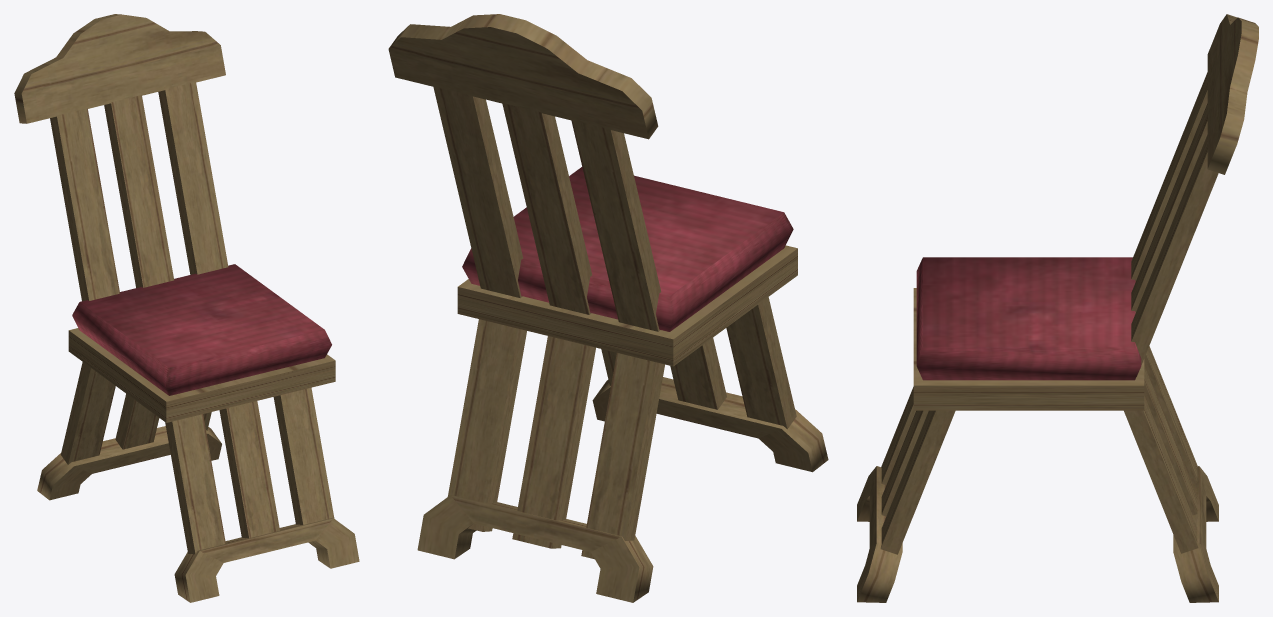
The model's file is chair01.glb.
The picture shows the model from 3 angles, left to right: view 1: azimuth 30°, elevation 25°; view 2: azimuth 150°, elevation 25°; view 3: azimuth 270°, elevation 25°; orthographic projection. The views are drawn at different scales.
Parts seen in each view (by area): view 1: chair01; view 2: chair01; view 3: chair01.
Part boxes in pixels (left/top/right/bottom): chair01: left=14, top=14, right=359, bottom=602; chair01: left=388, top=14, right=828, bottom=602; chair01: left=857, top=14, right=1258, bottom=602.
Bounding box in the file's own units: 0.5885 × 1.26 × 0.8717.
2 materials, 2 textured.
